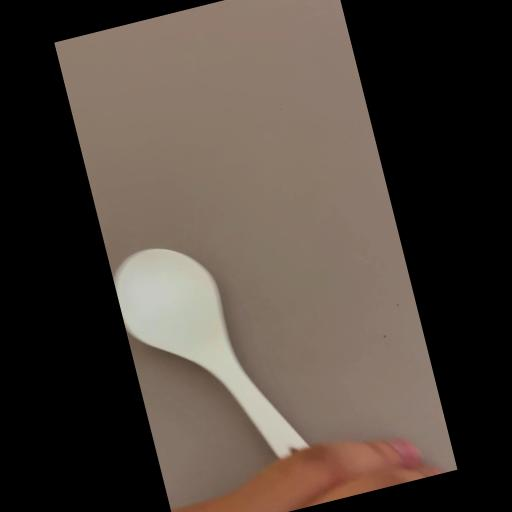utensil: (107, 216, 338, 512)
